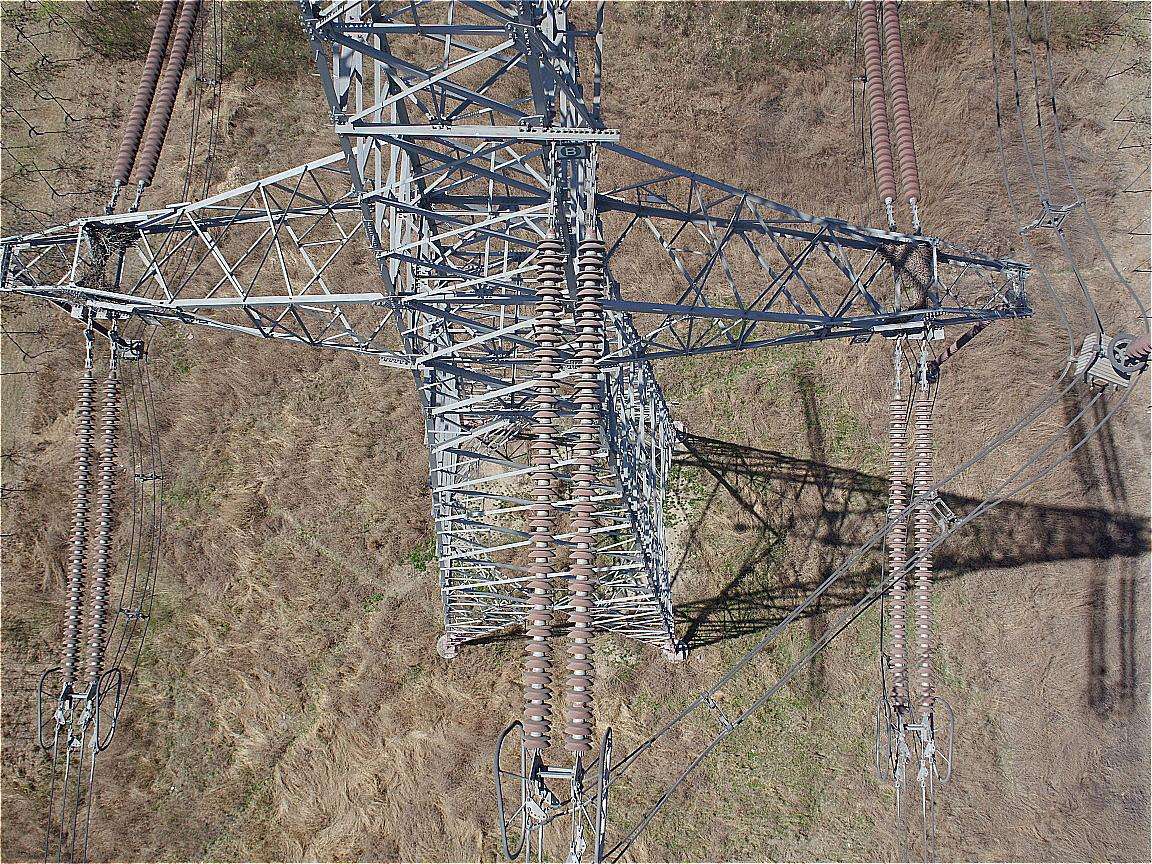insultor1: (111, 1, 210, 186), (860, 1, 924, 203)
insultor2: (525, 239, 603, 755), (61, 379, 120, 686), (887, 396, 940, 717)
